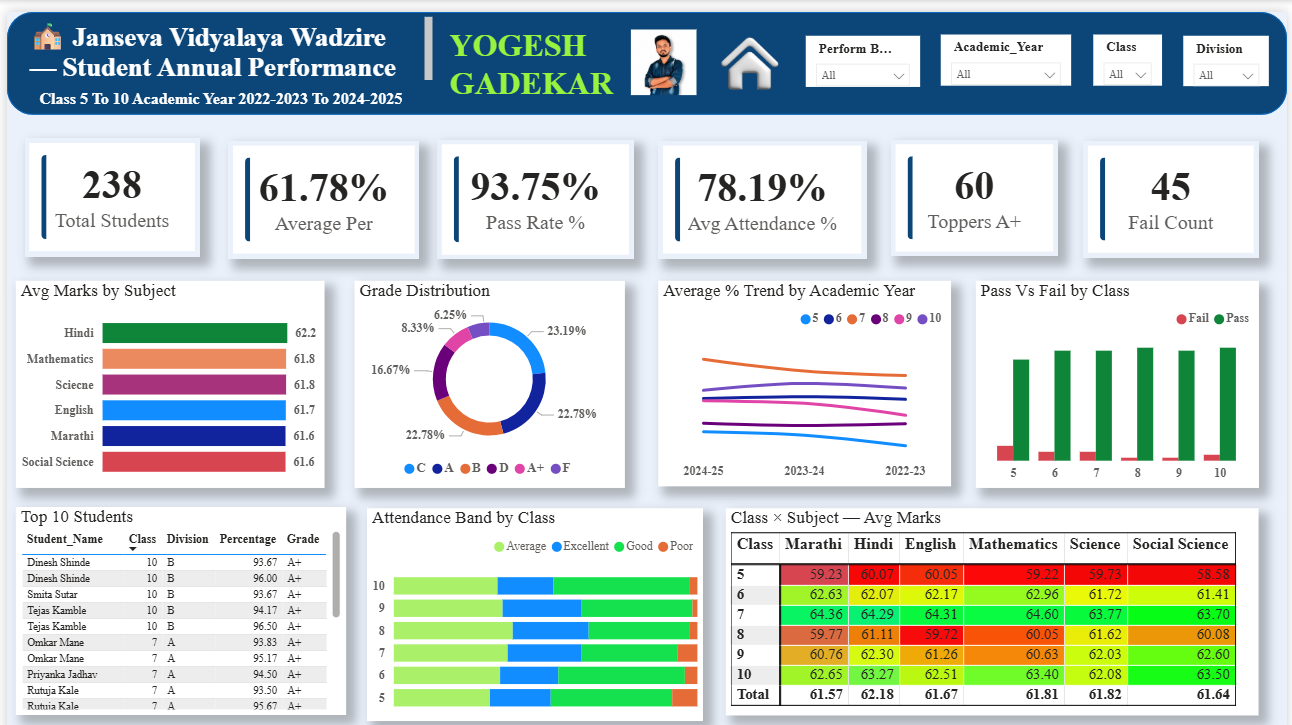

The dashboard page shown, as its layout file describes it:
{"tool":"powerbi","page":{"name":"Page 1","canvas":[1280,720],"ordinal":0},"visuals":[{"type":"shape","box":[0,0,1280,102.9],"z":0},{"type":"cardVisual","fields":{"Data":["janseva_vidyalaya_performance.Total Students"]},"box":[17.1,125.7,175.7,118.6],"z":1000},{"type":"cardVisual","fields":{"Data":["janseva_vidyalaya_performance.Avg Attendance %"]},"box":[651.4,128.6,208.6,118.6],"z":2000},{"type":"cardVisual","fields":{"Data":["janseva_vidyalaya_performance.Topper Count"]},"box":[884.3,127.1,167.1,117.1],"z":3000},{"type":"cardVisual","fields":{"Data":["janseva_vidyalaya_performance.Fail Count"]},"box":[1075.7,128.6,175.7,117.1],"z":4000},{"type":"cardVisual","fields":{"Data":["janseva_vidyalaya_performance.Pass Rate %"]},"box":[430,127.1,197.1,120],"z":5000},{"type":"cardVisual","fields":{"Data":["janseva_vidyalaya_performance.Average Percentage"]},"box":[221.4,128.6,191.4,118.6],"z":6000},{"type":"clusteredBarChart","title":"Avg Marks by Subject","fields":{"Category":["Subject & Marks.Subject"],"Y":["Sum(Subject & Marks.Avg_Marks)"]},"box":[8.6,268.6,308.6,207.1],"z":7000},{"type":"donutChart","title":"Grade Distribution","fields":{"Category":["janseva_vidyalaya_performance.Grade"],"Y":["CountNonNull(janseva_vidyalaya_performance.Student_Name)"]},"box":[347.1,268.6,270,207.1],"z":8000},{"type":"lineChart","title":"Average % Trend by Academic Year","fields":{"Category":["janseva_vidyalaya_performance.Academic_Year"],"Series":["janseva_vidyalaya_performance.Class"],"Y":["Avg(janseva_vidyalaya_performance.Percentage)"]},"box":[651.4,268.6,292.9,205.7],"z":9000},{"type":"clusteredColumnChart","title":"Pass Vs Fail by Class","fields":{"Series":["janseva_vidyalaya_performance.Result"],"Category":["janseva_vidyalaya_performance.Class"],"Y":["Count(janseva_vidyalaya_performance.Student_Name)"]},"box":[968.6,268.6,282.9,207.1],"z":10000},{"type":"tableEx","title":"Top 10 Students","fields":{"Values":["janseva_vidyalaya_performance.Student_Name","janseva_vidyalaya_performance.Class","janseva_vidyalaya_performance.Division","janseva_vidyalaya_performance.Percentage","janseva_vidyalaya_performance.Grade"]},"box":[8.9,495.6,330,207.8],"z":11000},{"type":"barChart","title":"Attendance Band by Class","fields":{"Category":["janseva_vidyalaya_performance.Class"],"Y":["CountNonNull(janseva_vidyalaya_performance.Student_Name)"],"Series":["janseva_vidyalaya_performance.Attendance_Band"]},"box":[360,495.7,335.7,212.9],"z":12000},{"type":"pivotTable","title":"Class × Subject — Avg Marks","fields":{"Rows":["janseva_vidyalaya_performance.Class"],"Values":["janseva_vidyalaya_performance.Avg Marathi","janseva_vidyalaya_performance.Avg Hindi","janseva_vidyalaya_performance.Avg English","janseva_vidyalaya_performance.Avg Mathematics","janseva_vidyalaya_performance.Avg Science","janseva_vidyalaya_performance.Avg Social Science"]},"box":[718.6,495.7,532.9,207.1],"z":13000},{"type":"textbox","box":[17.1,0,412.9,74.3],"z":14000},{"type":"textbox","box":[27.1,72.9,491.4,30],"z":15000},{"type":"textbox","box":[437.1,10,190,92.9],"z":16000},{"type":"slicer","fields":{"Values":["janseva_vidyalaya_performance.Academic_Year"]},"box":[934.3,22.9,130,51.4],"z":17000},{"type":"slicer","fields":{"Values":["janseva_vidyalaya_performance.Class"]},"box":[1085.7,22.9,68.6,51.4],"z":18000},{"type":"slicer","fields":{"Values":["janseva_vidyalaya_performance.Division"]},"box":[1175.7,24.3,85.7,50],"z":19000},{"type":"slicer","fields":{"Values":["janseva_vidyalaya_performance.Performance_Band"]},"box":[798.6,24.3,114.3,51.4],"z":20000},{"type":"image","box":[617.1,17.1,78.6,65.7],"z":21000},{"type":"image","box":[705.7,20,72.9,62.9],"z":22000}]}

Visuals, with their boxes in screenshot pixels (x1, y1, x2, y2), scaled from the page's 1280x720 canvas onto the 1292x725 screenshot:
shape: [left=0, top=0, right=1291, bottom=104]
cardVisual - janseva_vidyalaya_performance.Total Students: [left=17, top=127, right=195, bottom=246]
cardVisual - janseva_vidyalaya_performance.Avg Attendance %: [left=658, top=129, right=868, bottom=249]
cardVisual - janseva_vidyalaya_performance.Topper Count: [left=893, top=128, right=1061, bottom=246]
cardVisual - janseva_vidyalaya_performance.Fail Count: [left=1086, top=129, right=1263, bottom=247]
cardVisual - janseva_vidyalaya_performance.Pass Rate %: [left=434, top=128, right=633, bottom=249]
cardVisual - janseva_vidyalaya_performance.Average Percentage: [left=223, top=129, right=417, bottom=249]
"Avg Marks by Subject" clusteredBarChart: [left=9, top=270, right=320, bottom=479]
"Grade Distribution" donutChart: [left=350, top=270, right=623, bottom=479]
"Average % Trend by Academic Year" lineChart: [left=658, top=270, right=953, bottom=478]
"Pass Vs Fail by Class" clusteredColumnChart: [left=978, top=270, right=1263, bottom=479]
"Top 10 Students" tableEx: [left=9, top=499, right=342, bottom=708]
"Attendance Band by Class" barChart: [left=363, top=499, right=702, bottom=714]
"Class × Subject — Avg Marks" pivotTable: [left=725, top=499, right=1263, bottom=708]
textbox: [left=17, top=0, right=434, bottom=75]
textbox: [left=27, top=73, right=523, bottom=104]
textbox: [left=441, top=10, right=633, bottom=104]
slicer - janseva_vidyalaya_performance.Academic_Year: [left=943, top=23, right=1074, bottom=75]
slicer - janseva_vidyalaya_performance.Class: [left=1096, top=23, right=1165, bottom=75]
slicer - janseva_vidyalaya_performance.Division: [left=1187, top=24, right=1273, bottom=75]
slicer - janseva_vidyalaya_performance.Performance_Band: [left=806, top=24, right=921, bottom=76]
image: [left=623, top=17, right=702, bottom=83]
image: [left=712, top=20, right=786, bottom=83]
